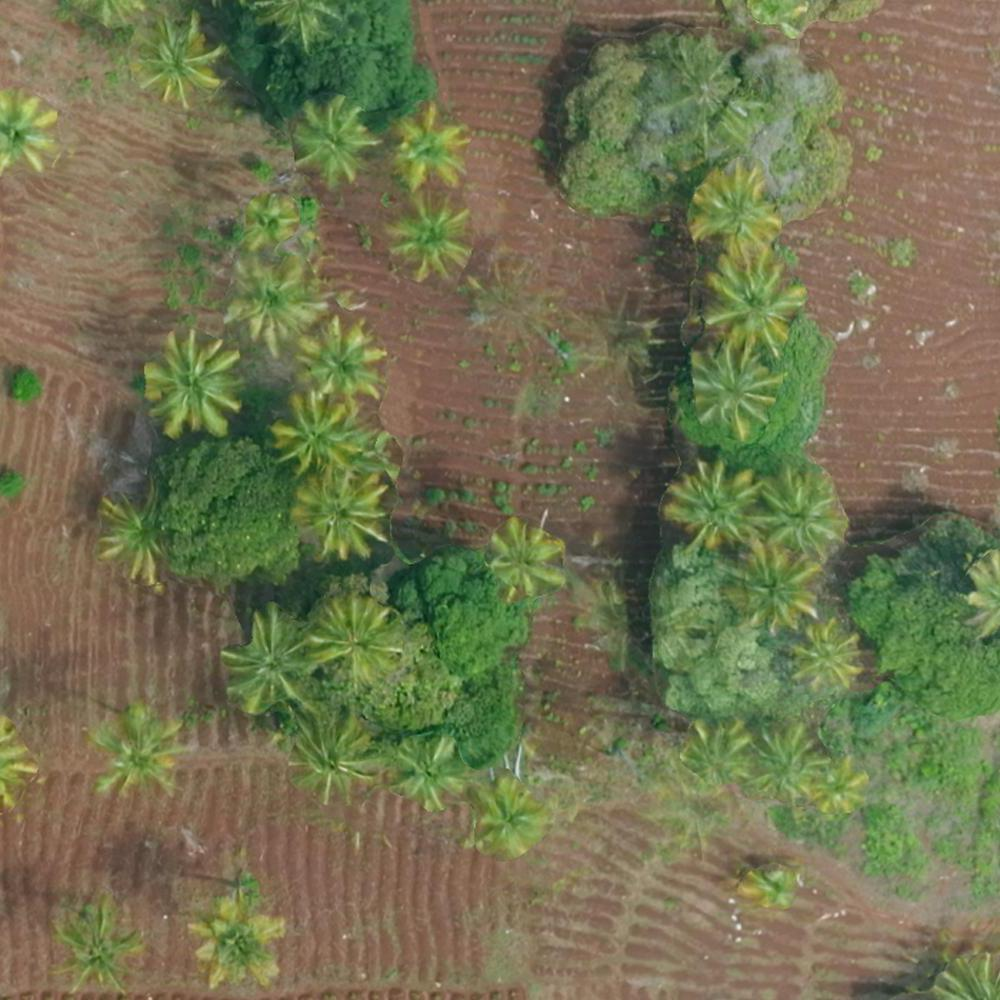Palm: (143, 332, 244, 438), (700, 255, 805, 351), (220, 606, 309, 711), (230, 257, 327, 352), (291, 468, 384, 561), (285, 705, 376, 799), (97, 480, 177, 586), (725, 544, 822, 631), (685, 344, 778, 434), (309, 594, 397, 688), (296, 312, 386, 400), (91, 705, 181, 793), (692, 165, 779, 256), (192, 896, 279, 986), (664, 460, 758, 542), (55, 898, 138, 989), (752, 466, 842, 549), (131, 17, 221, 99), (269, 394, 359, 473), (384, 194, 468, 277), (290, 97, 370, 184), (390, 105, 471, 189), (786, 623, 869, 700), (750, 722, 834, 798), (483, 518, 560, 598), (682, 714, 760, 792), (469, 773, 542, 854), (392, 732, 468, 808), (1, 91, 62, 182), (235, 193, 299, 257)
